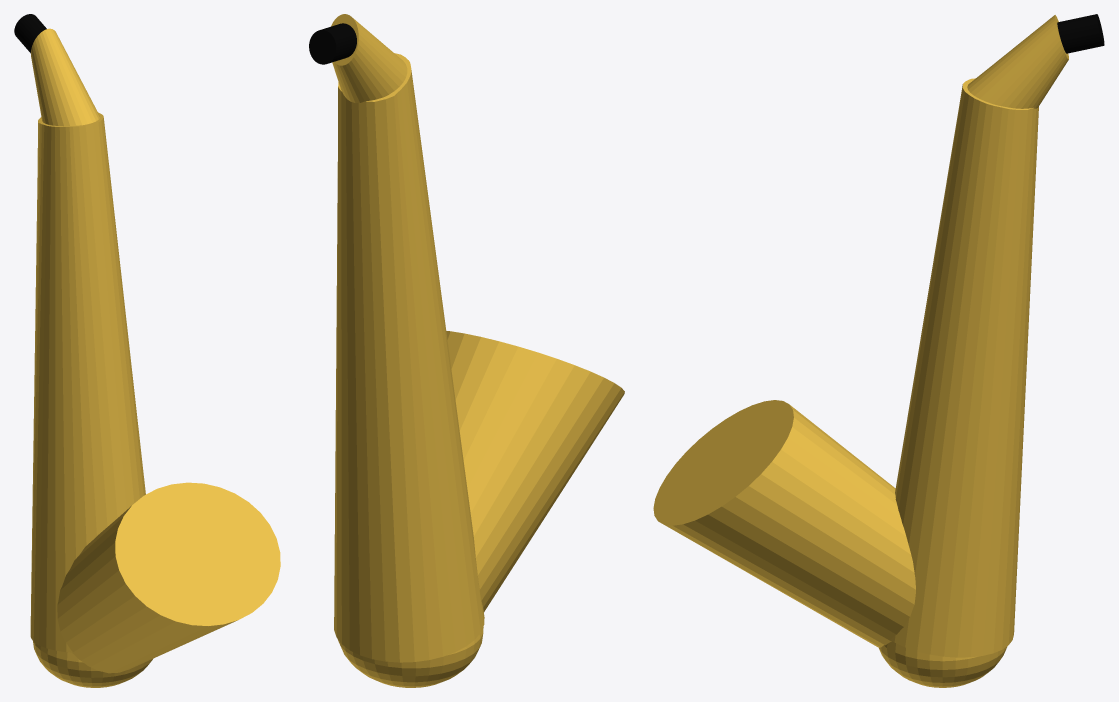
File: Saxophone.fbx
3 views of the same model, side by side, from view 1: azimuth 30°, elevation 25°; view 2: azimuth 150°, elevation 25°; view 3: azimuth 270°, elevation 25° (orthographic). The views are drawn at different scales.
Parts seen in each view (by area): view 1: Cylinder, Cylinder.002, Cylinder.001, Sphere, Cylinder.003; view 2: Cylinder, Cylinder.002, Cylinder.001, Sphere, Cylinder.003; view 3: Cylinder, Cylinder.002, Cylinder.001, Sphere, Cylinder.003.
Part boxes in pixels (left/top/right/bottom): Cylinder: left=30, top=112, right=145, bottom=652; Cylinder.002: left=57, top=482, right=280, bottom=673; Cylinder.001: left=31, top=28, right=99, bottom=136; Sphere: left=33, top=641, right=152, bottom=687; Cylinder.003: left=14, top=14, right=46, bottom=53; Cylinder: left=334, top=53, right=484, bottom=662; Cylinder.002: left=446, top=331, right=624, bottom=611; Cylinder.001: left=331, top=14, right=412, bottom=103; Sphere: left=337, top=627, right=483, bottom=687; Cylinder.003: left=309, top=23, right=356, bottom=64; Cylinder: left=890, top=78, right=1038, bottom=657; Cylinder.002: left=653, top=400, right=915, bottom=647; Cylinder.001: left=967, top=15, right=1068, bottom=108; Sphere: left=879, top=641, right=1007, bottom=687; Cylinder.003: left=1057, top=14, right=1104, bottom=53.
Size of the model in its own units: 65.82 by 248 by 152.
